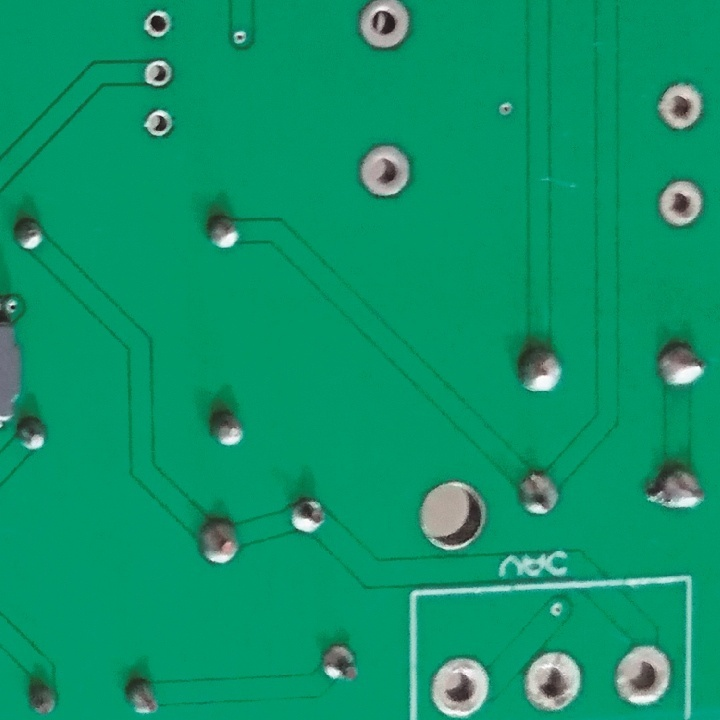F: (610, 639, 674, 710), (522, 649, 582, 712), (432, 653, 492, 715), (351, 1, 419, 51), (359, 143, 414, 200), (656, 81, 707, 132), (656, 179, 702, 229), (141, 104, 177, 145), (140, 56, 176, 92), (142, 9, 176, 40)
